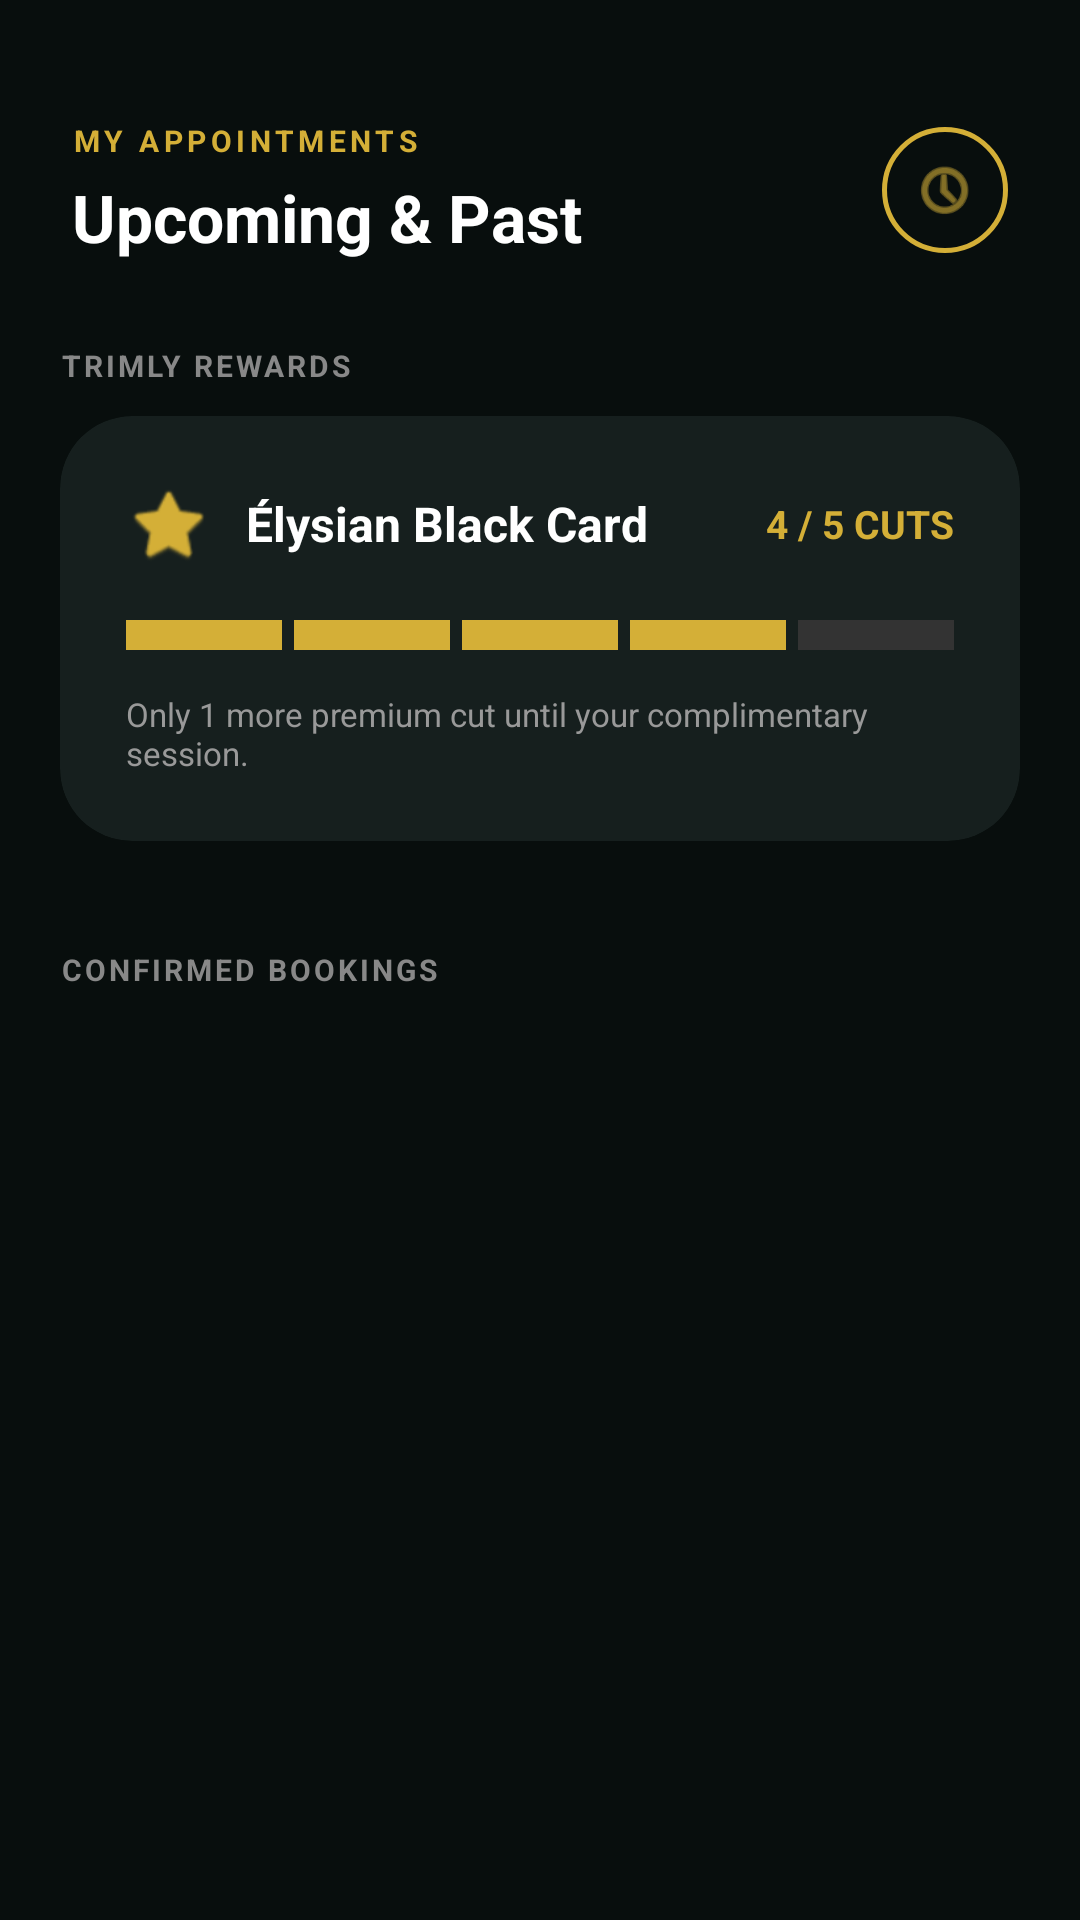

Icon bounding boxes for this 1080 × 1920 phone screenshot, format {"left": x1, "top": y1, "right": x2, "bottom": y2}:
recent history: {"left": 882, "top": 127, "right": 1008, "bottom": 253}
star on: {"left": 134, "top": 491, "right": 204, "bottom": 559}
